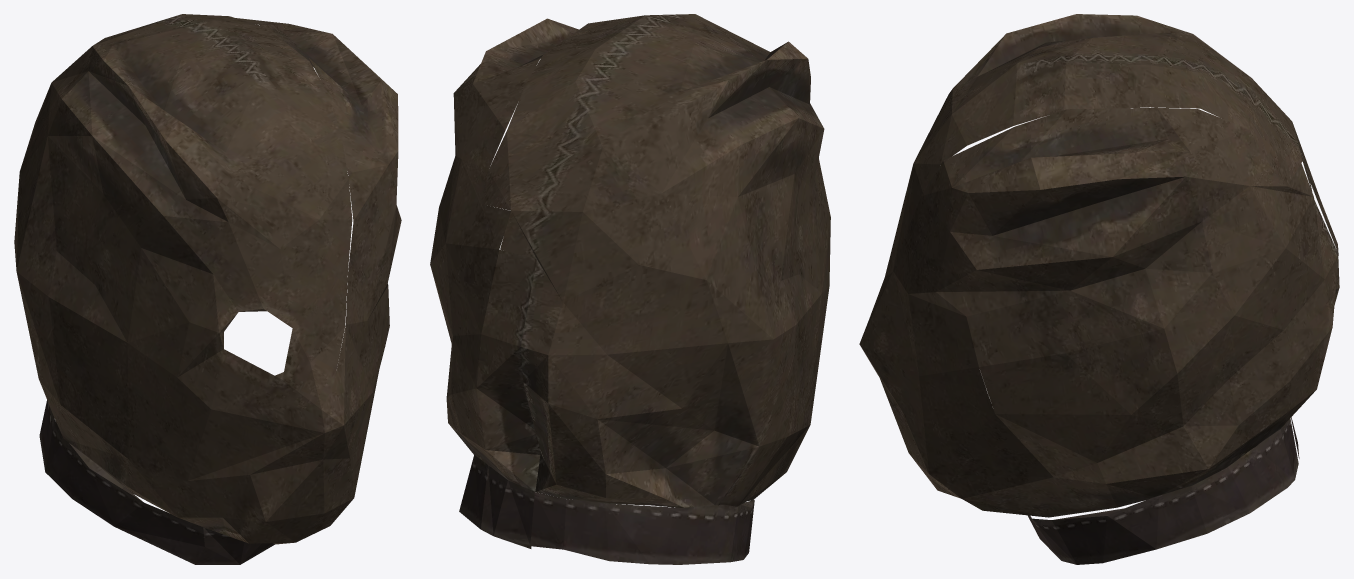
File: TORBA_HELM.glb
The picture shows the model from 3 angles, left to right: view 1: azimuth 30°, elevation 25°; view 2: azimuth 150°, elevation 25°; view 3: azimuth 270°, elevation 25°; orthographic projection. The views are drawn at different scales.
Visible parts, largest first — view 1: TORBA_HELM; view 2: TORBA_HELM; view 3: TORBA_HELM.
Part boxes in pixels (left/top/right/bottom): TORBA_HELM: left=14, top=14, right=401, bottom=564; TORBA_HELM: left=430, top=14, right=830, bottom=564; TORBA_HELM: left=859, top=14, right=1339, bottom=564.
Bounding box in the file's own units: 0.2481 × 0.367 × 0.3265.
Materials: 1 (1 with a texture image).
